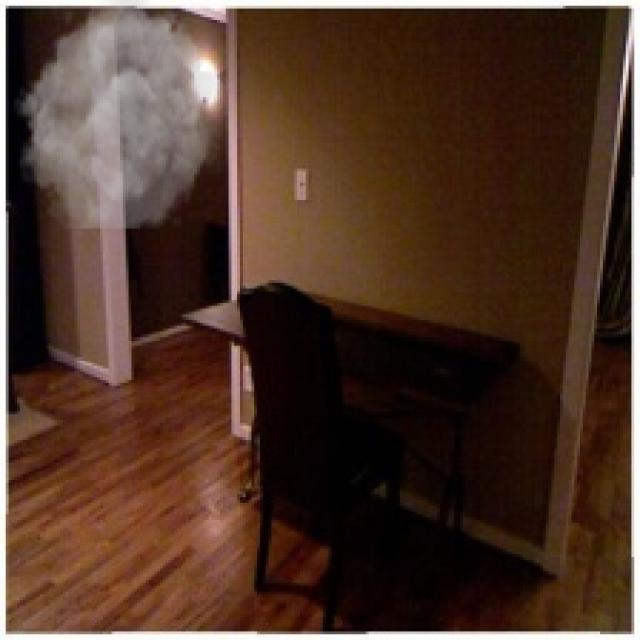smoke: (11, 0, 226, 229)
